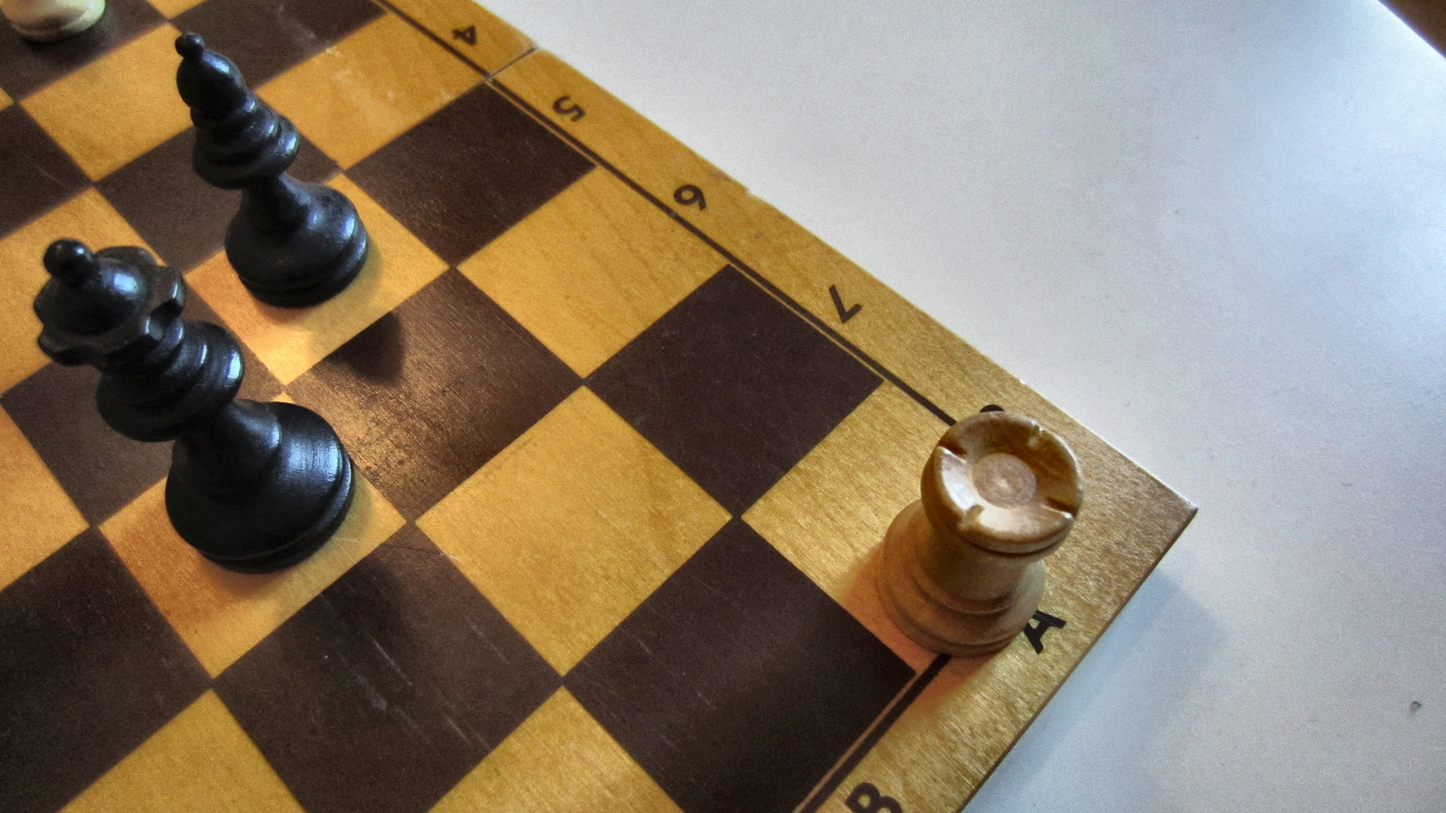black-bishop: (172, 31, 372, 309)
black-queen: (25, 238, 359, 572)
white-rook: (877, 408, 1086, 660)
